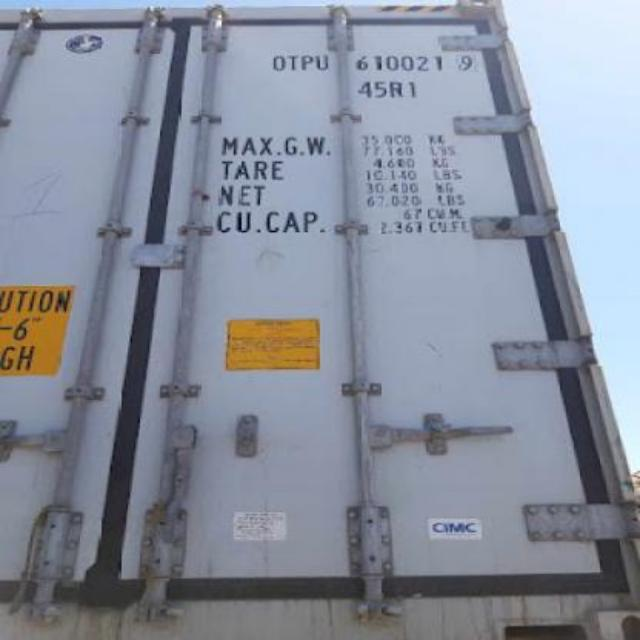0: (401, 54, 414, 74), (386, 55, 399, 71)
1: (432, 54, 448, 74), (374, 54, 384, 70)
2: (416, 54, 429, 74)
6: (352, 52, 370, 74)
9: (458, 56, 474, 72)
O: (272, 54, 288, 74)
P: (300, 55, 314, 71)
T: (286, 52, 300, 72)
U: (314, 52, 332, 72)
